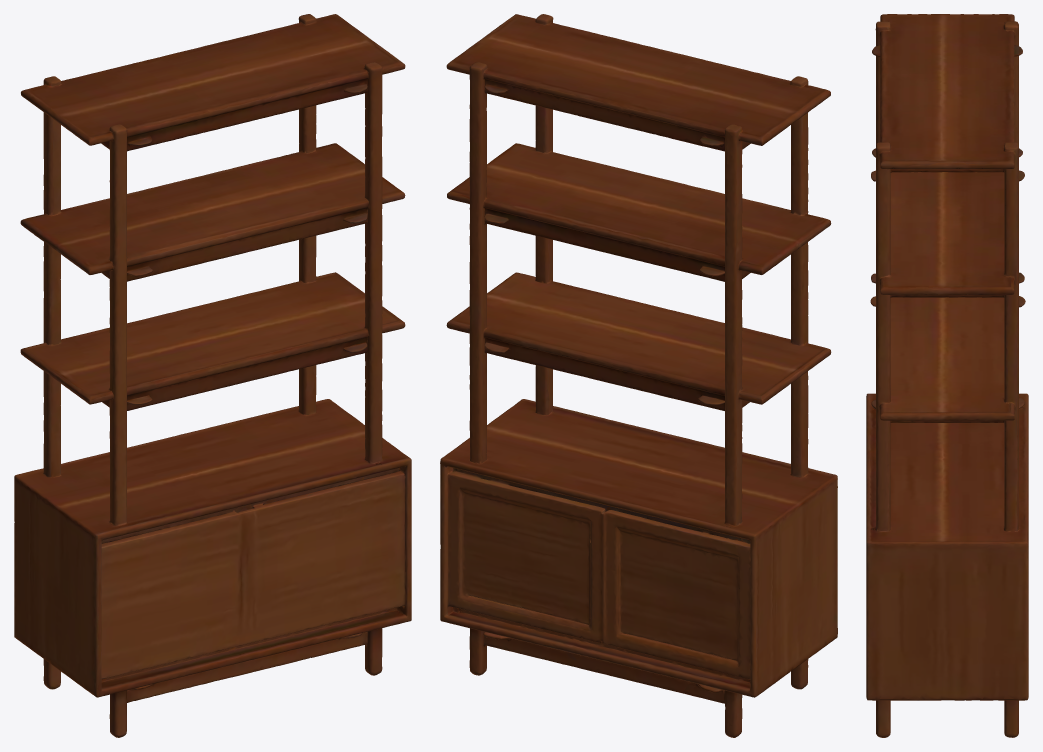
Rendered from high-shelf.glb.
3 renders of one model, left to right at view 1: azimuth 30°, elevation 25°; view 2: azimuth 150°, elevation 25°; view 3: azimuth 270°, elevation 25°, orthographic. The views are drawn at different scales.
Parts seen in each view (by area): view 1: world.002; view 2: world.002; view 3: world.002.
Part boxes in pixels (x1=…): world.002: x1=14, y1=14, x2=411, y2=737; world.002: x1=440, y1=14, x2=837, y2=737; world.002: x1=866, y1=14, x2=1028, y2=737.
Size of the model in its own units: 1.39 by 2.56 by 0.6353.
Materials: 1 (1 with a texture image).
